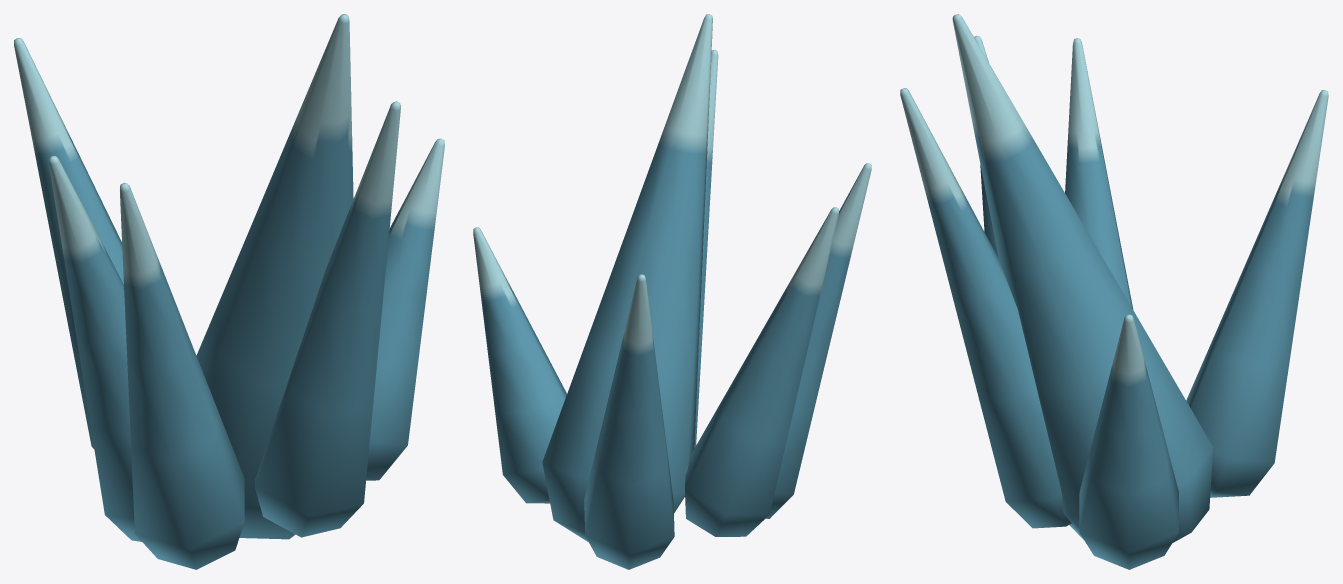
The model's file is prop_crystalundefined_9fbf.glb.
3 views of the same model, side by side, from view 1: azimuth 30°, elevation 25°; view 2: azimuth 150°, elevation 25°; view 3: azimuth 270°, elevation 25° (orthographic). The views are drawn at different scales.
Parts seen in each view (by area): view 1: prop_crystalundefined_9fbf; view 2: prop_crystalundefined_9fbf; view 3: prop_crystalundefined_9fbf.
Boxes of the visible parts, x1=… form: prop_crystalundefined_9fbf: x1=14, y1=14, x2=444, y2=569; prop_crystalundefined_9fbf: x1=473, y1=14, x2=871, y2=569; prop_crystalundefined_9fbf: x1=900, y1=14, x2=1328, y2=569.
Size of the model in its own units: 0.7442 by 0.9844 by 0.7241.
1 material, 1 textured.
